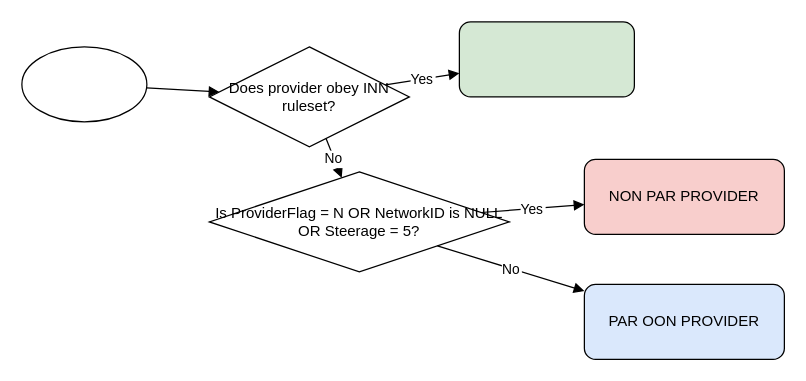
Image size: 806x381. Some labels were removed from this diagram. The shapes that lost their labels are listed below. From the top down, each one's centre as x and y in pixels, then its label:
[546,59]: PAR INN PROVIDER
[84,84]: Start
